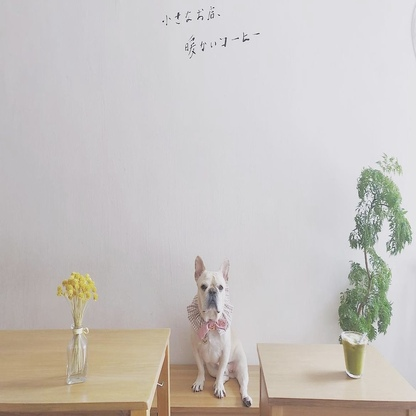bulldog: (187, 253, 254, 408)
